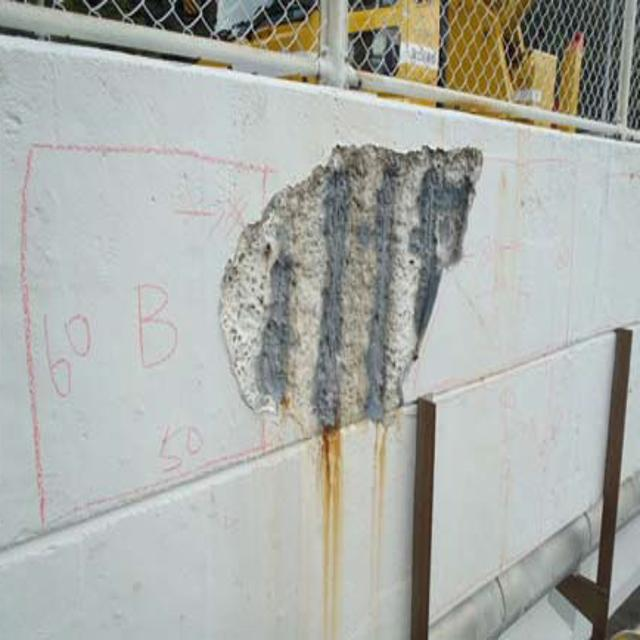spalling: (204, 110, 499, 450)
